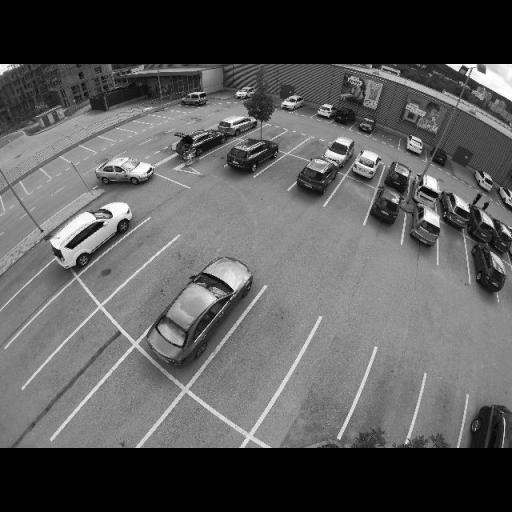busy: (143, 254, 254, 366), (52, 206, 130, 264), (470, 402, 512, 448), (469, 244, 509, 292), (97, 156, 156, 186), (294, 158, 342, 194), (224, 137, 277, 169), (370, 186, 404, 226), (408, 210, 442, 248), (178, 130, 224, 156), (442, 193, 473, 226), (350, 150, 382, 180), (215, 114, 259, 134), (412, 174, 442, 202), (322, 138, 352, 163), (470, 208, 494, 238), (387, 161, 413, 188), (494, 220, 512, 255), (402, 136, 428, 156), (180, 91, 212, 107), (280, 94, 306, 111), (332, 107, 354, 125), (430, 148, 450, 166), (317, 103, 336, 118), (356, 118, 375, 132), (234, 87, 256, 99)
free: (290, 367, 347, 417), (228, 332, 284, 377), (94, 393, 152, 431), (364, 386, 414, 427), (52, 350, 100, 389), (168, 419, 222, 448), (140, 270, 182, 306), (418, 408, 462, 442), (33, 314, 68, 342), (438, 234, 468, 260), (109, 246, 142, 269), (14, 294, 47, 316), (206, 142, 231, 168), (4, 262, 30, 284), (340, 190, 366, 207), (2, 186, 24, 204), (276, 165, 300, 179), (254, 124, 277, 138), (26, 174, 46, 188), (48, 161, 67, 173), (280, 137, 300, 148), (376, 130, 394, 142), (69, 152, 88, 162), (107, 131, 125, 141), (90, 140, 107, 150), (304, 143, 320, 153), (162, 110, 176, 120), (128, 122, 144, 130), (146, 115, 160, 123), (302, 106, 314, 113)
